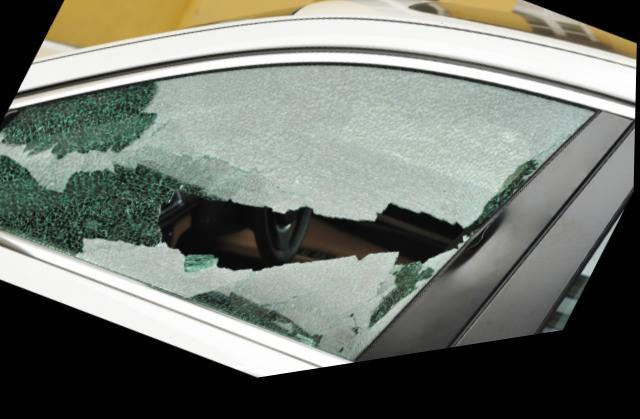glass shatter: (0, 73, 597, 372)
